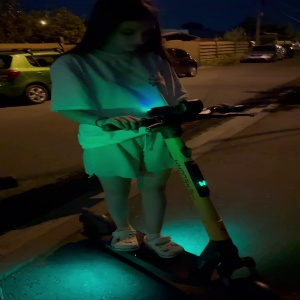human on a scooter: (36, 2, 274, 297)
